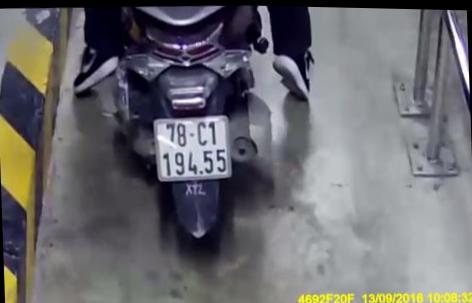LP: (152, 109, 235, 183)
